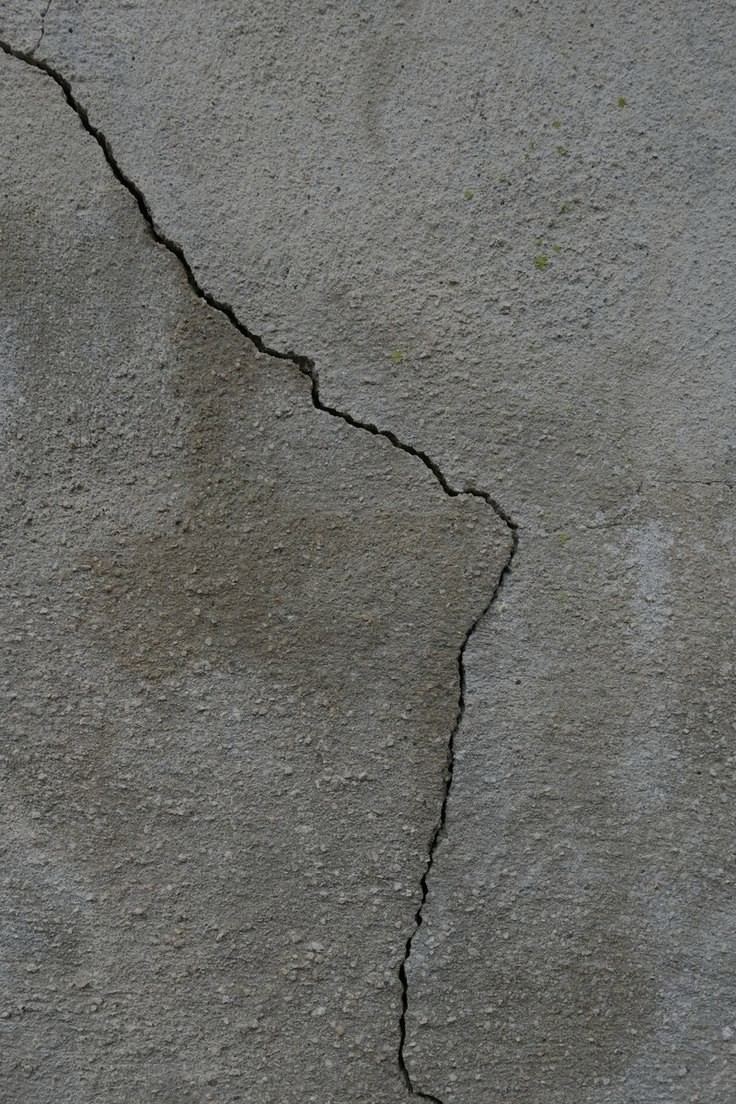crack: (2, 29, 533, 1103)
